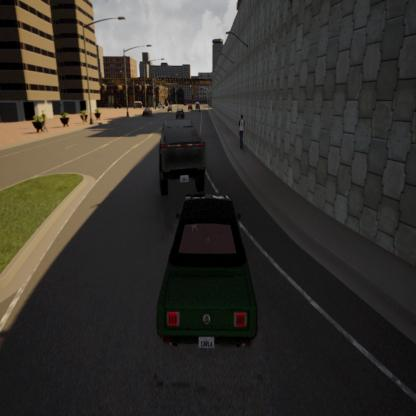Cars: (150, 194, 288, 364), (151, 115, 214, 199), (174, 105, 186, 125), (141, 106, 153, 119), (156, 97, 165, 110), (166, 100, 173, 114), (187, 100, 193, 116), (196, 100, 202, 116)
Pedestrian: (233, 109, 247, 155)
